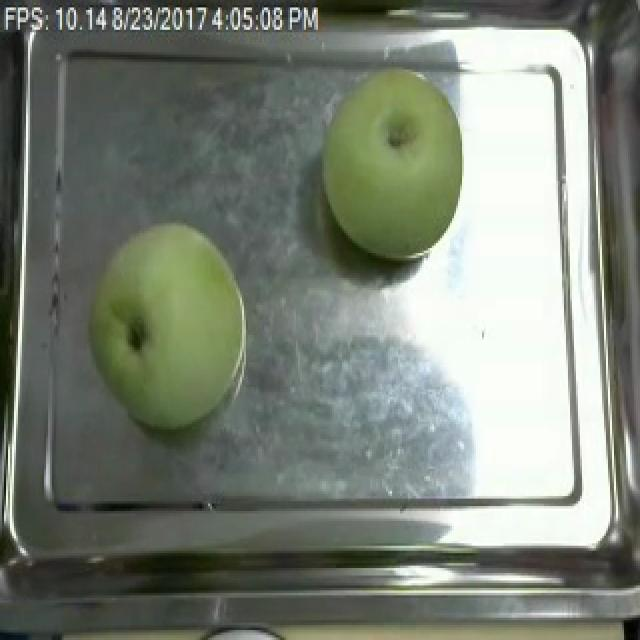50-_ripeness: (87, 222, 244, 438), (314, 64, 478, 263)
